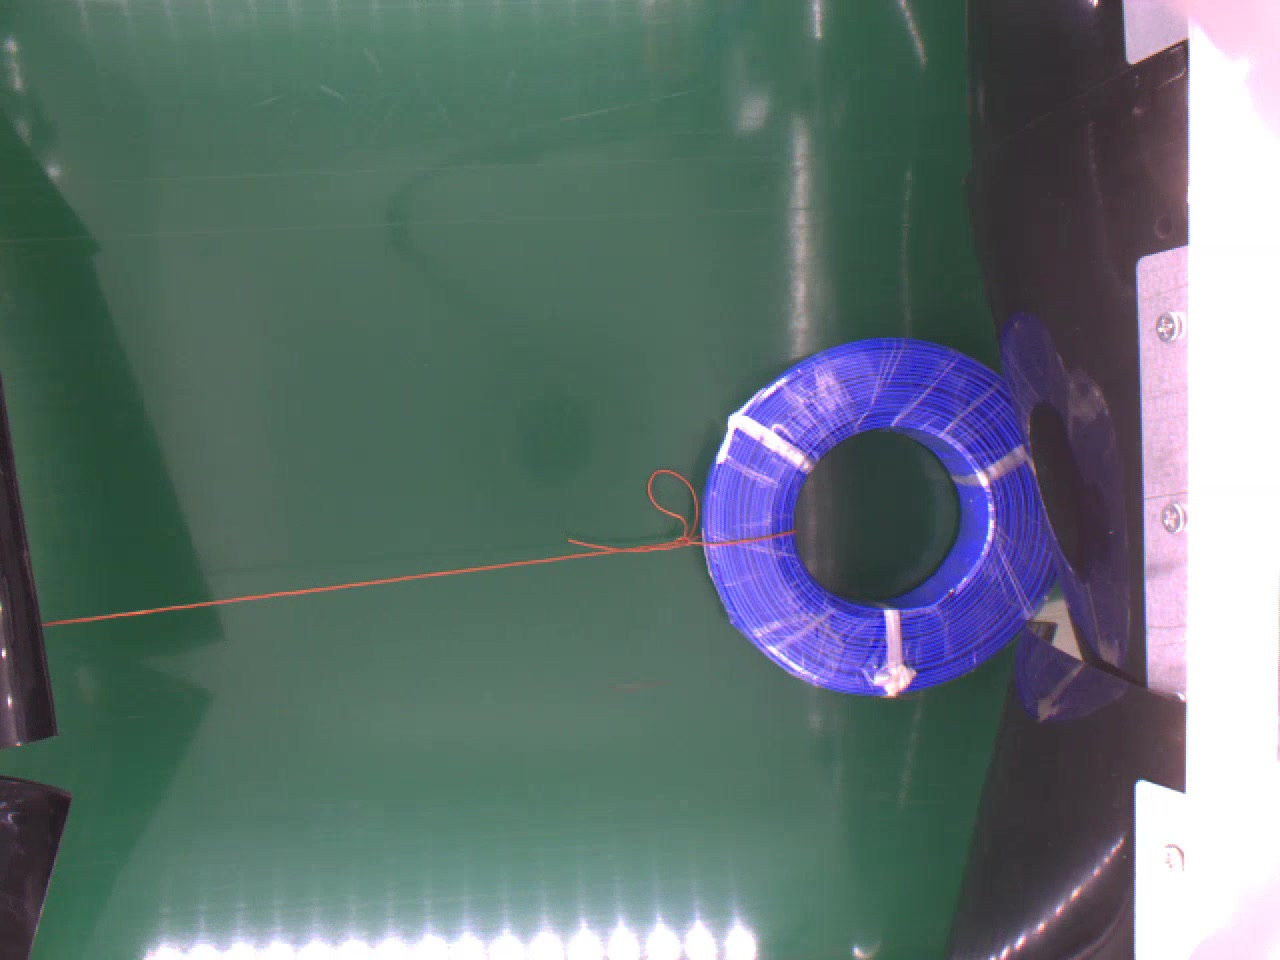blue: (699, 335, 1058, 697)
